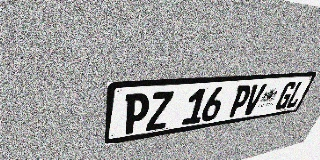1: (182, 88, 209, 125)
6: (200, 87, 227, 122)
G: (273, 81, 298, 110)
L: (284, 80, 308, 109)
P: (122, 92, 151, 135), (227, 85, 253, 118)
V: (241, 84, 267, 116)
Z: (146, 91, 174, 131)
